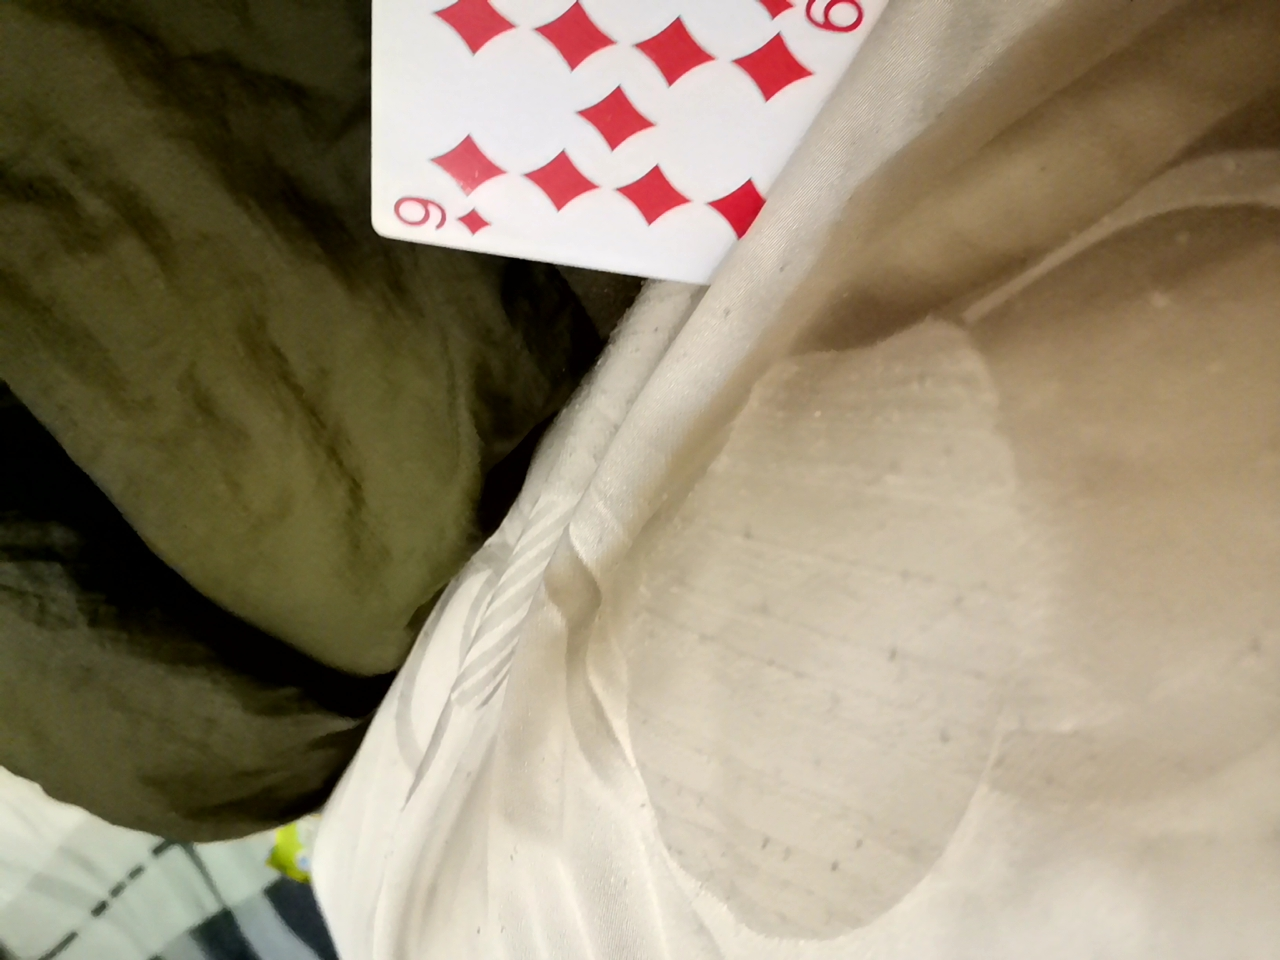fk 9: (313, 0, 861, 313)
